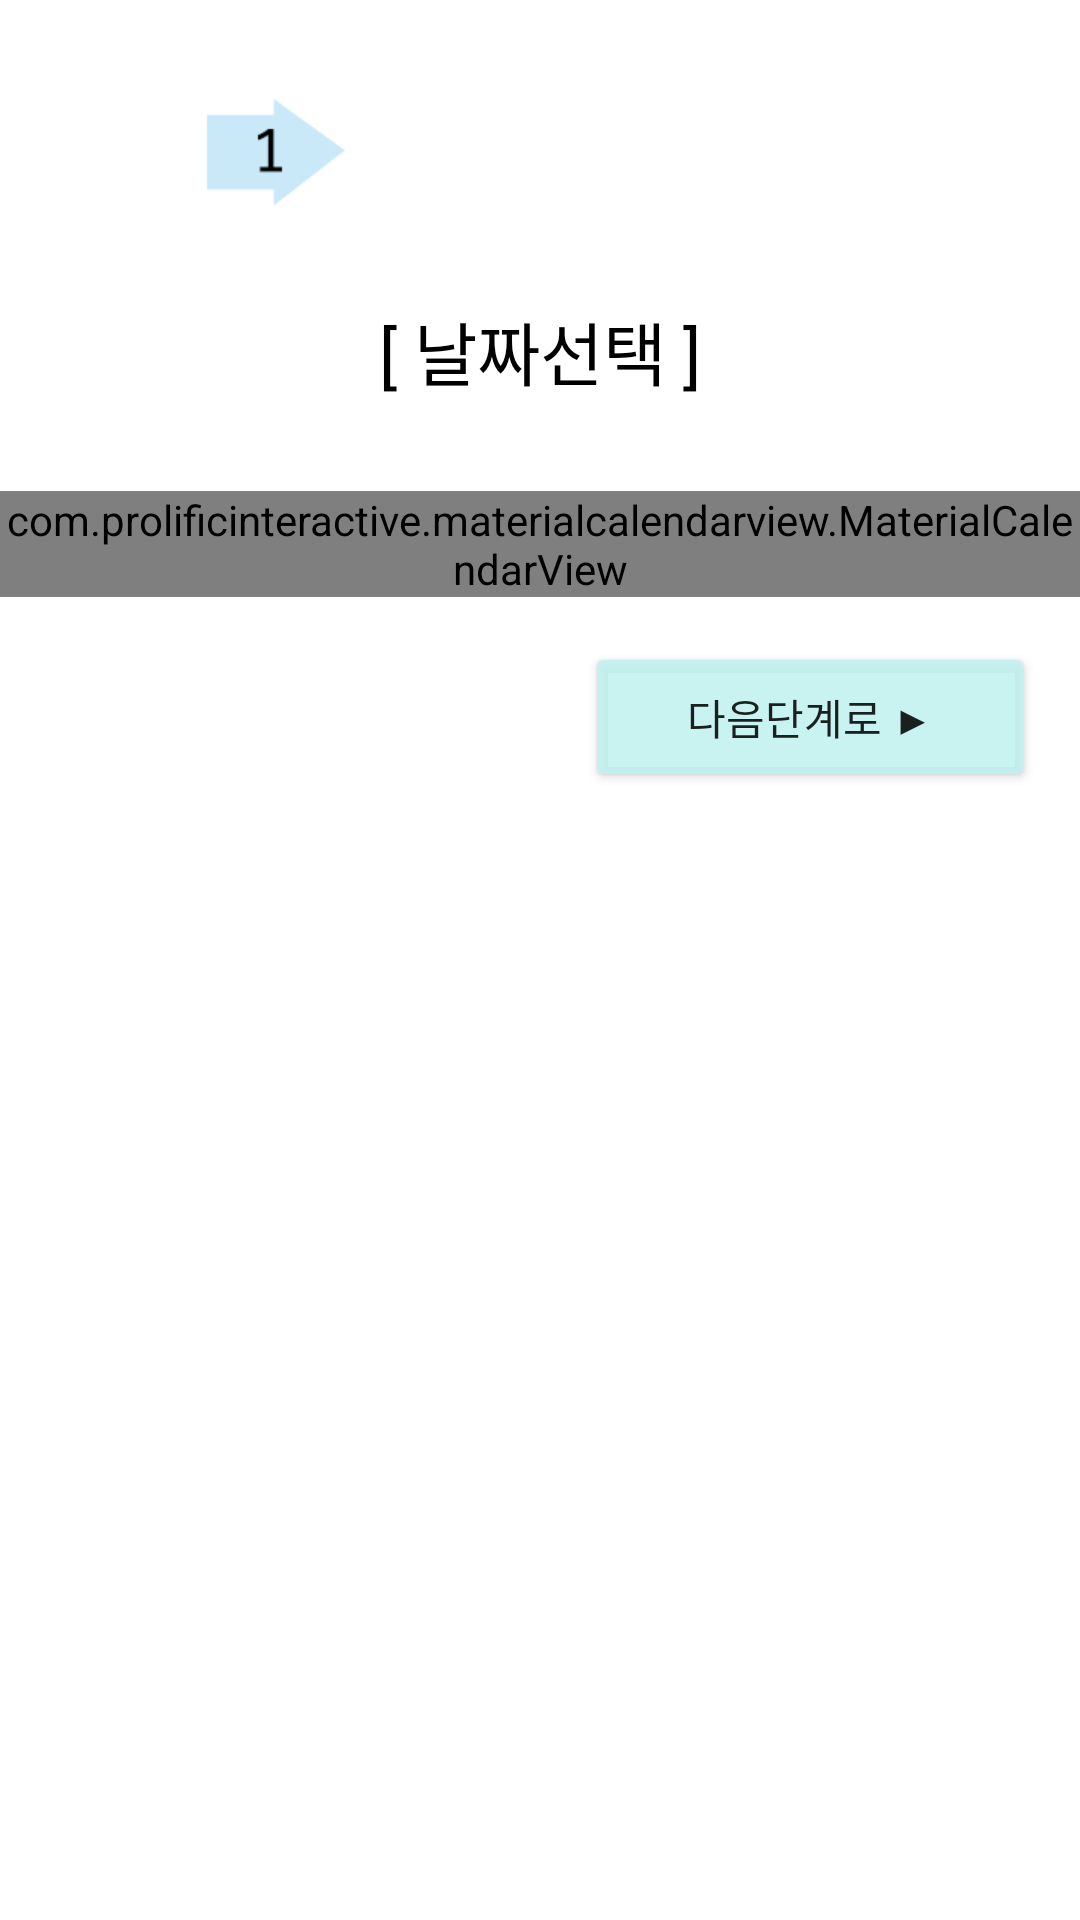

Named icons in this screenshot (1080*1920) and their bounding boxes, [x1=x1, y1=y1, x2=x2, y2=y2]:
step: [x1=207, y1=100, x2=344, y2=204]
